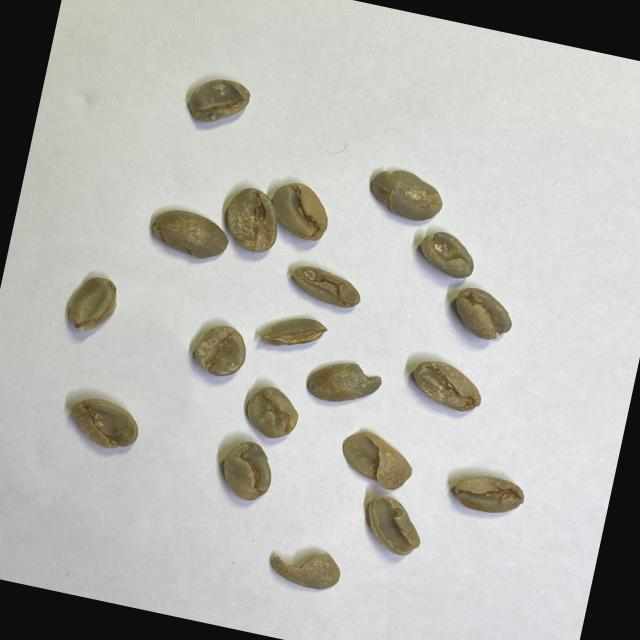bad: (330, 424, 420, 496), (142, 200, 235, 266), (362, 160, 449, 228), (356, 488, 432, 562), (215, 180, 287, 258), (406, 355, 491, 420), (64, 391, 148, 456), (301, 352, 386, 413), (214, 434, 284, 508), (264, 175, 338, 244), (262, 538, 348, 597), (283, 258, 369, 316), (181, 69, 256, 135), (60, 268, 128, 340), (447, 466, 531, 522), (447, 282, 520, 346), (238, 380, 306, 445), (186, 318, 253, 383), (412, 224, 483, 284), (258, 306, 330, 358)
